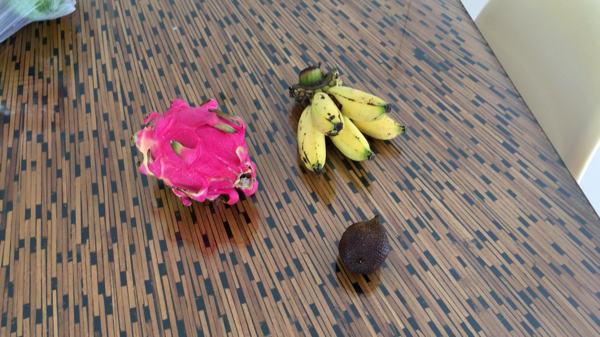banana: (292, 62, 402, 175)
dragon fruit: (134, 103, 256, 206)
snake fruit: (340, 220, 393, 270)
